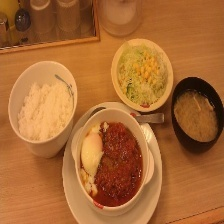sabzi: (90, 121, 146, 208)
